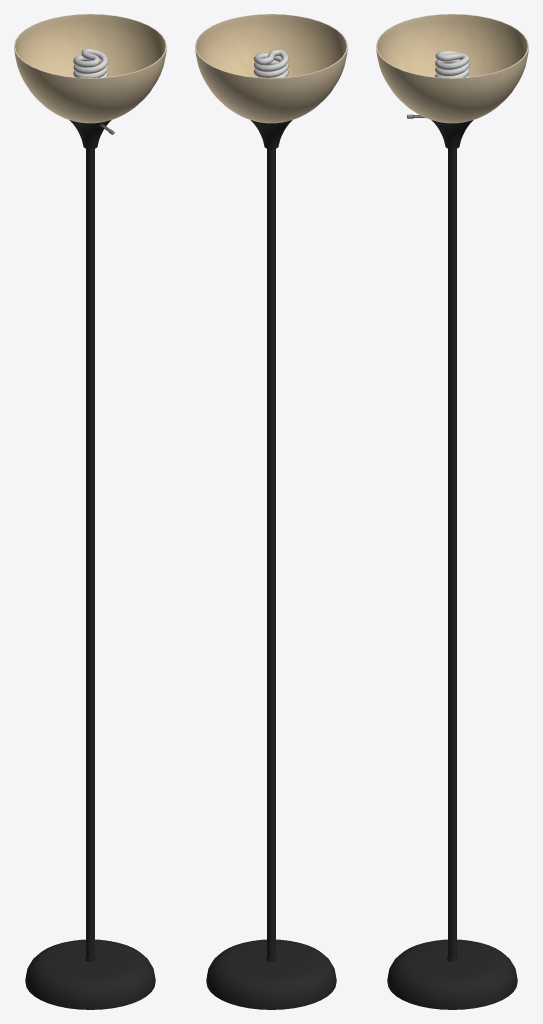
Rendered from lamp.obj.
3 views of the same model, side by side, from view 1: azimuth 30°, elevation 25°; view 2: azimuth 150°, elevation 25°; view 3: azimuth 270°, elevation 25° (orthographic).
Parts seen in each view (by area): view 1: StandingLampA_StandingLampOn_0; view 2: StandingLampA_StandingLampOn_0; view 3: StandingLampA_StandingLampOn_0.
Boxes of the visible parts, bbox=[...] form: StandingLampA_StandingLampOn_0: bbox=[14, 14, 166, 1009]; StandingLampA_StandingLampOn_0: bbox=[195, 14, 347, 1009]; StandingLampA_StandingLampOn_0: bbox=[376, 14, 528, 1009].
Size of the model in its own units: 0.2686 by 1.81 by 0.2686.
1 material, 1 textured.
